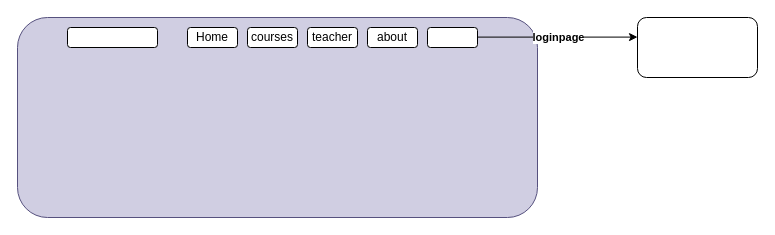
The diagram is 775 pixels wide and 235 high, and some of its shapes have lost their labels. Here are the shapes that lost their labels. From the top down, the centre of each, then its label:
At (x=112, y=37): "Educonnect".
At (x=452, y=37): "login".
